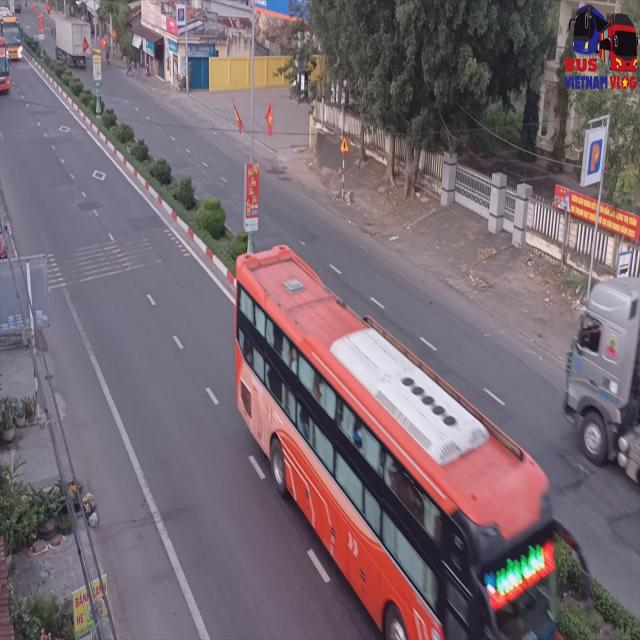bus: (236, 239, 560, 639), (0, 15, 23, 64), (0, 33, 9, 94)
truck: (564, 267, 640, 489)
